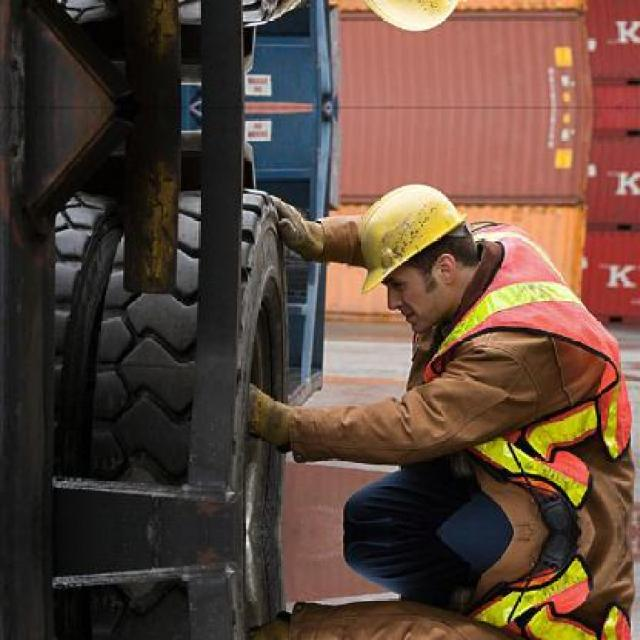helmet: (332, 171, 499, 334), (331, 0, 500, 43)
